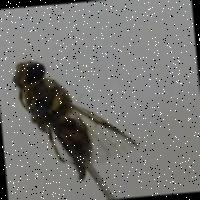Oriental-fruit-fly: (3, 36, 148, 196)
